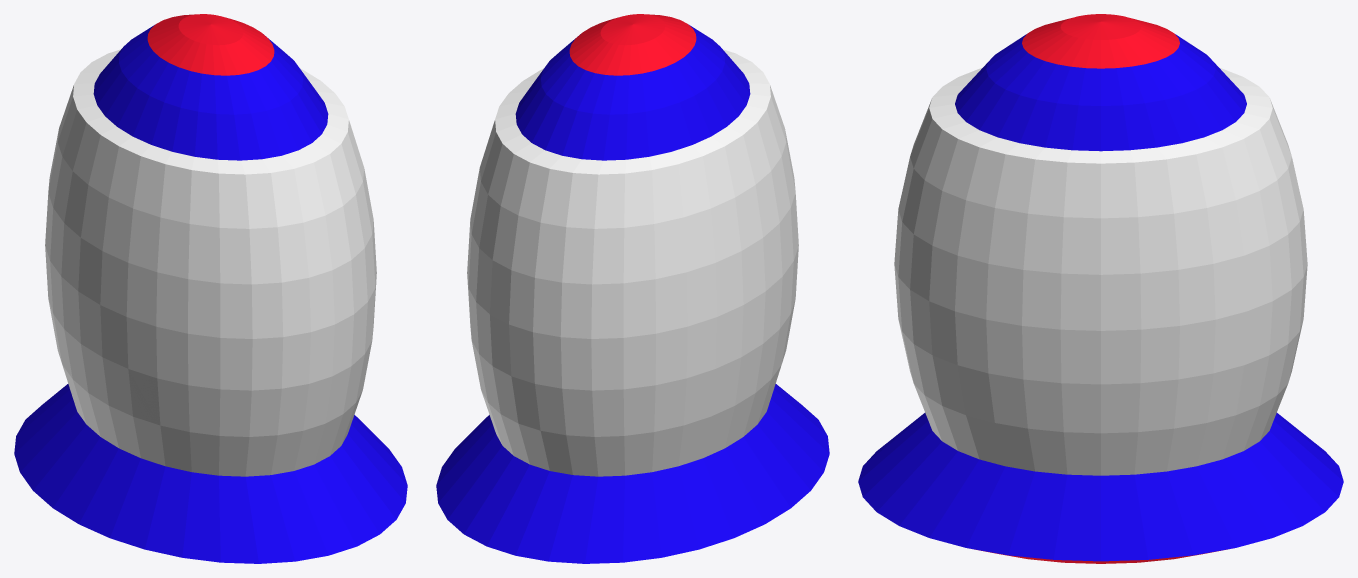
The model's file is Repel_Shield_Missile_Capsule 1.fbx.
The picture shows the model from 3 angles, left to right: view 1: azimuth 30°, elevation 25°; view 2: azimuth 150°, elevation 25°; view 3: azimuth 270°, elevation 25°; orthographic projection. The views are drawn at different scales.
Visible parts, largest first — view 1: Sphere; view 2: Sphere; view 3: Sphere.
Part boxes in pixels (x1,y1,x2,y2): Sphere: (14, 14, 407, 563); Sphere: (436, 14, 829, 563); Sphere: (858, 14, 1343, 563).
Size of the model in its own units: 267 by 395 by 343.
